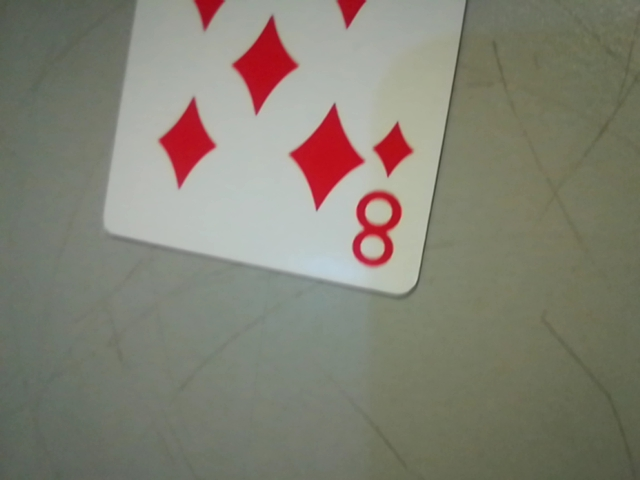fk 8: (346, 113, 421, 282)
